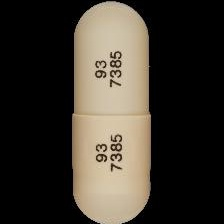33261-816: (0, 0, 224, 224)
